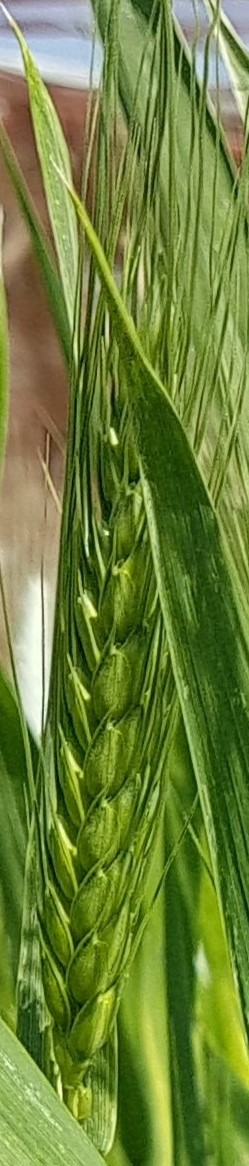Healthy Wheat: (19, 310, 179, 1071)
